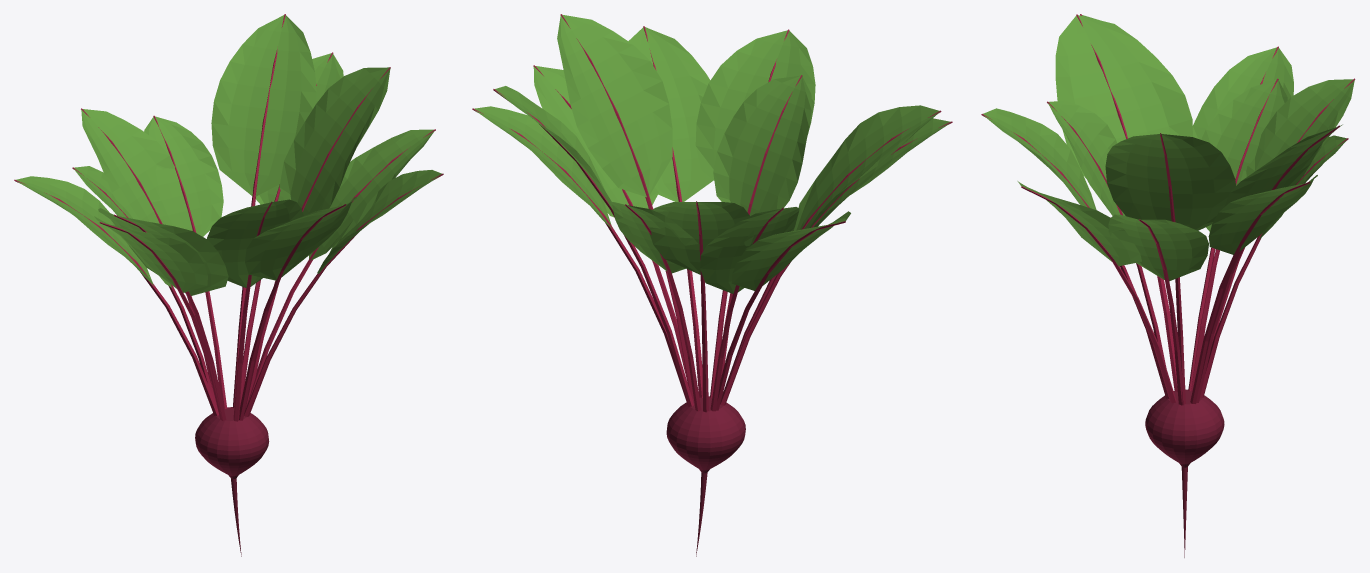
Rendered from beetroot_harvest_v17.glb.
The picture shows the model from 3 angles, left to right: view 1: azimuth 30°, elevation 25°; view 2: azimuth 150°, elevation 25°; view 3: azimuth 270°, elevation 25°; orthographic projection. The views are drawn at different scales.
Parts seen in each view (by area): view 1: plant; view 2: plant; view 3: plant.
Part boxes in pixels (box(x1,y1,x2,y2)): plant: box(14, 14, 443, 556); plant: box(472, 14, 952, 556); plant: box(981, 14, 1355, 557).
Bounding box in the file's own units: 0.4181 × 0.5127 × 0.3497.
Materials: 1 (1 with a texture image).
